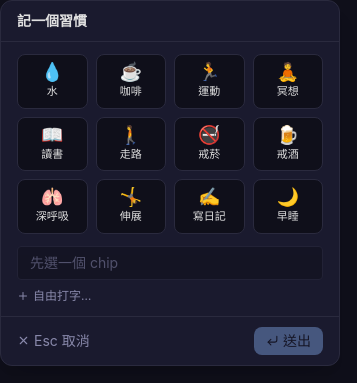
Test case: <ChipPopover /> (SPEC-41 §10.3) › free-text toggle swaps the chip grid for a single text input
Click the button "自由打字…".
click(54, 296)  # box [17,288,91,304]
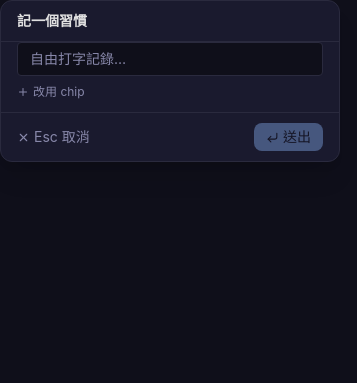
Expected: the field with placeholder "自由打字記錄…" is shown, [17,42,323,76]
